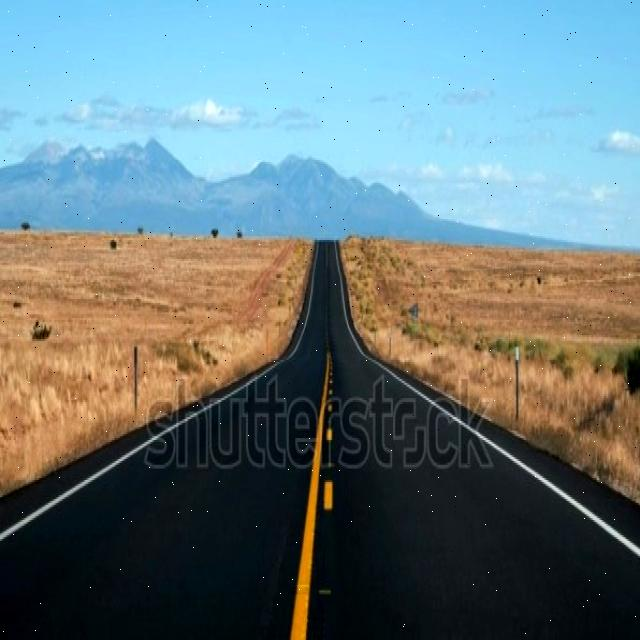lane: (290, 352, 329, 638)
road: (0, 240, 639, 636)
